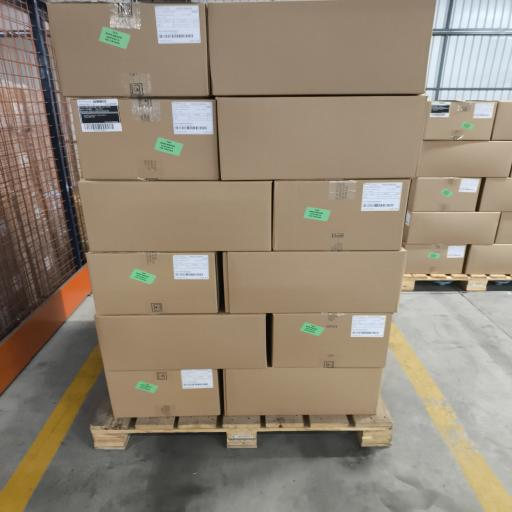pallet: (91, 396, 392, 449), (402, 274, 511, 291)
